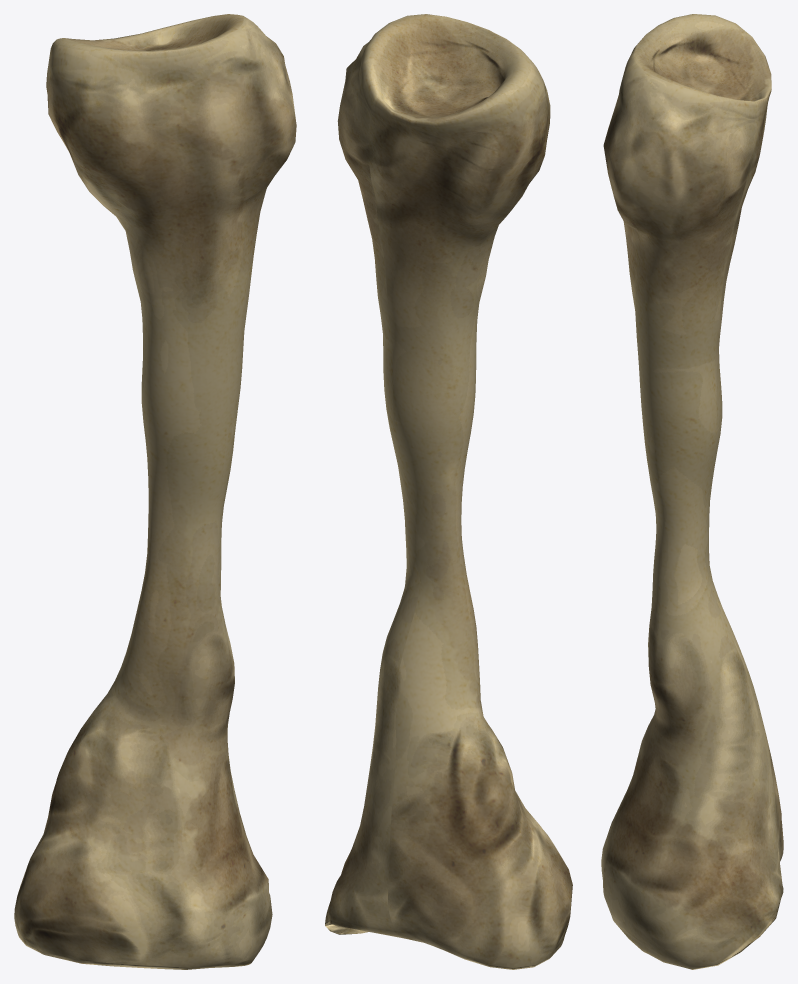
File: YorexBoneB.fbx
3 renders of one model, left to right at view 1: azimuth 30°, elevation 25°; view 2: azimuth 150°, elevation 25°; view 3: azimuth 270°, elevation 25°, orthographic. The views are drawn at different scales.
Parts seen in each view (by area): view 1: miscLegBoneB1; view 2: miscLegBoneB1; view 3: miscLegBoneB1.
Boxes of the visible parts, x1,y1,x2,y2 form: miscLegBoneB1: (14,14,296,969); miscLegBoneB1: (325,14,572,969); miscLegBoneB1: (601,14,783,969).
Size of the model in its own units: 19.06 by 71.63 by 13.45.
